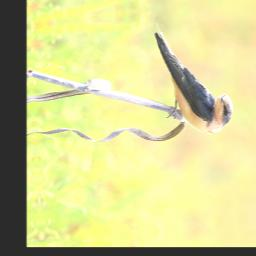Swallow: (150, 8, 239, 142)
